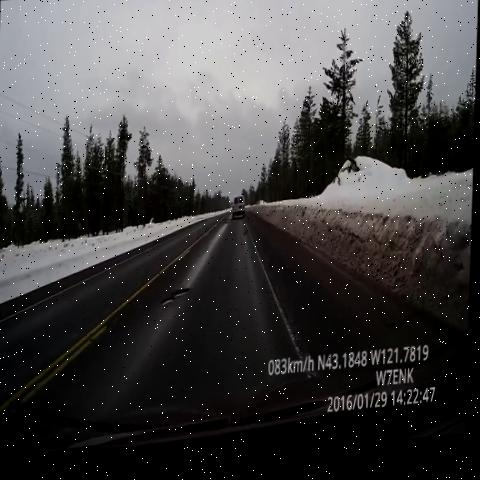pothole: (159, 280, 196, 320), (220, 217, 235, 239), (243, 229, 255, 247)
